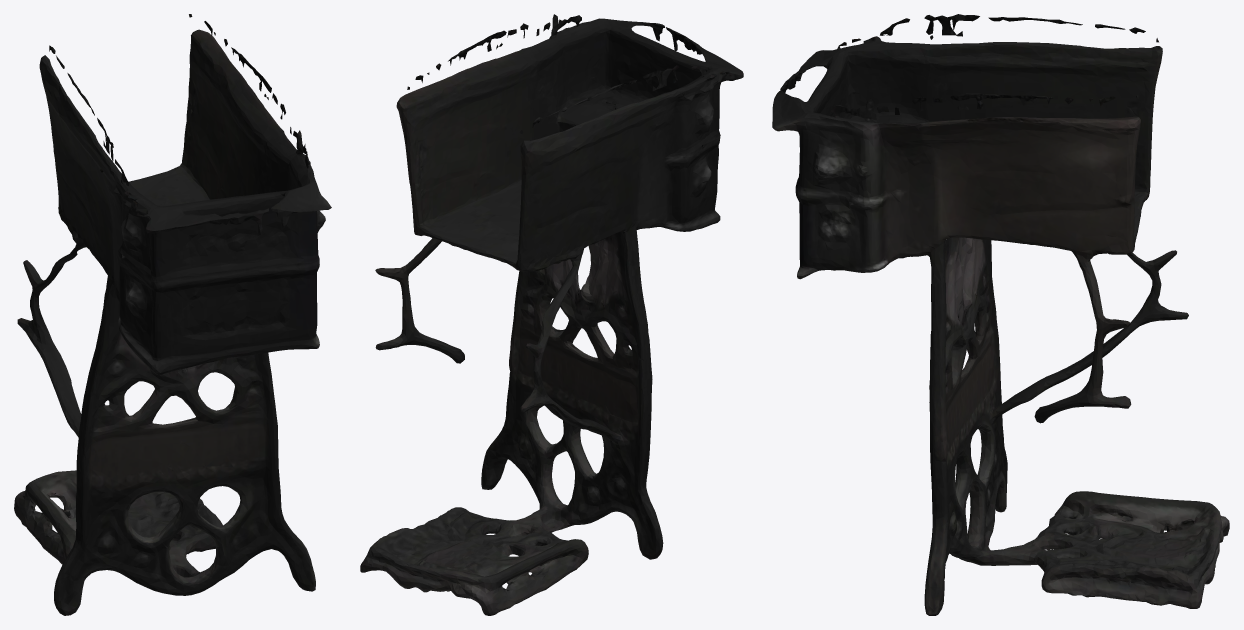
File: sewing-machine-table.glb
3 views of the same model, side by side, from view 1: azimuth 30°, elevation 25°; view 2: azimuth 150°, elevation 25°; view 3: azimuth 270°, elevation 25° (orthographic). The views are drawn at different scales.
Visible parts, largest first — view 1: world; view 2: world; view 3: world.
Boxes of the visible parts, x1,y1,x2,y2 form: world: (14, 14, 331, 615); world: (360, 14, 743, 615); world: (772, 14, 1229, 615).
Bounding box in the file's own units: 0.4335 × 0.8643 × 0.7012.
1 material, 1 textured.
